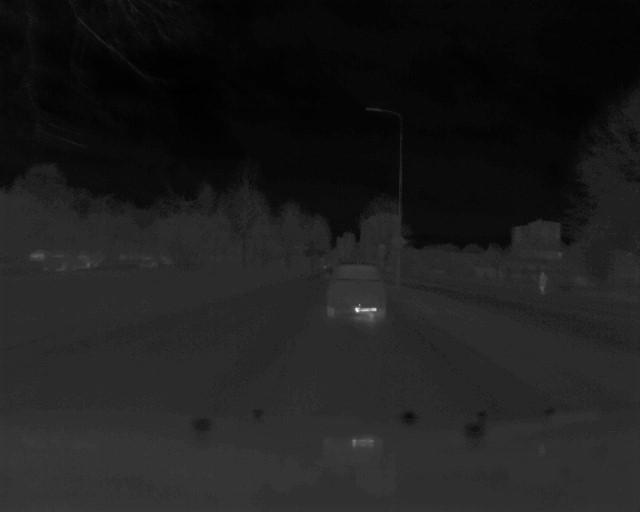car: (321, 259, 389, 324)
person: (535, 270, 549, 293)
